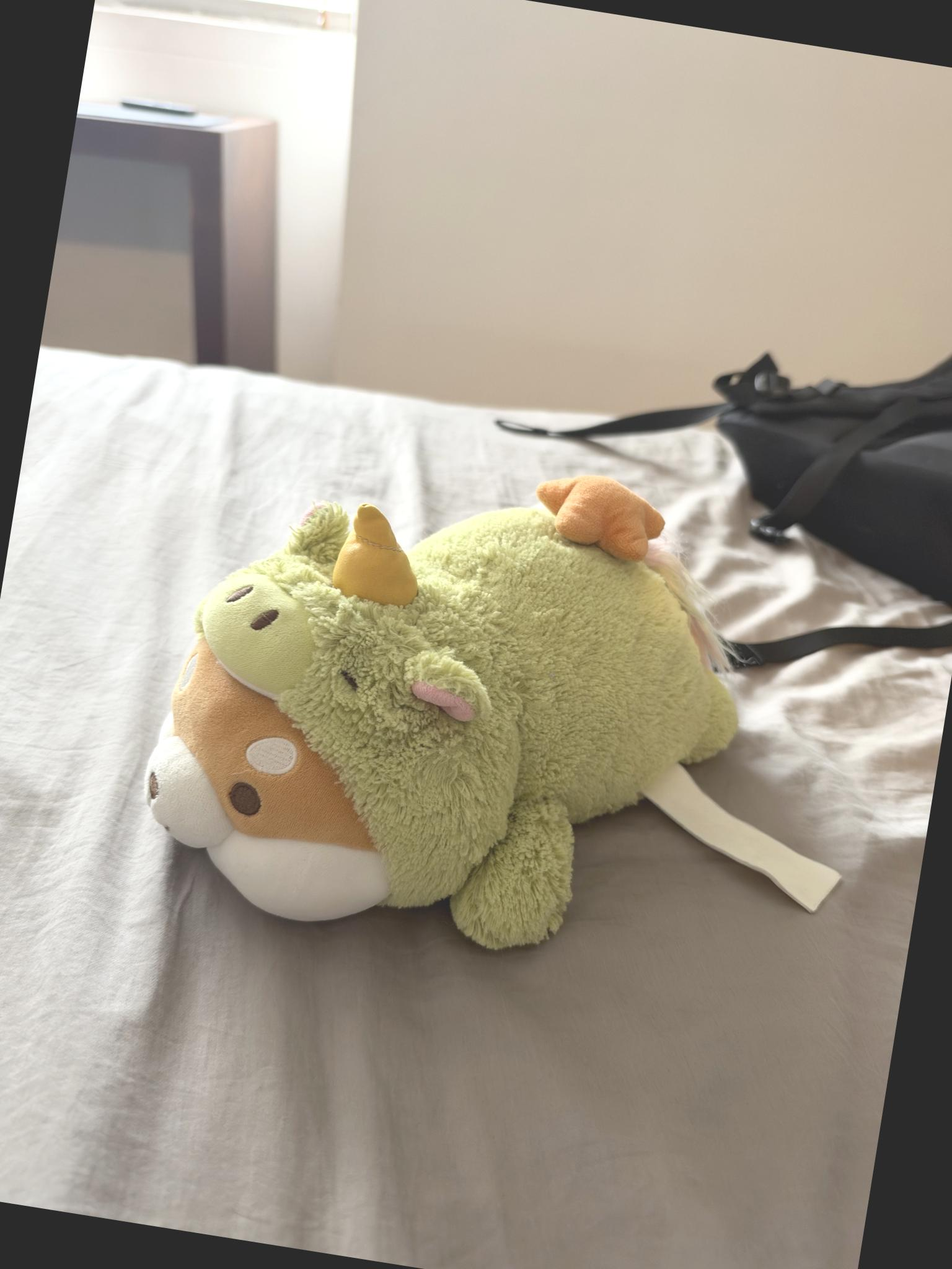peluche_martin: (126, 410, 778, 989)
